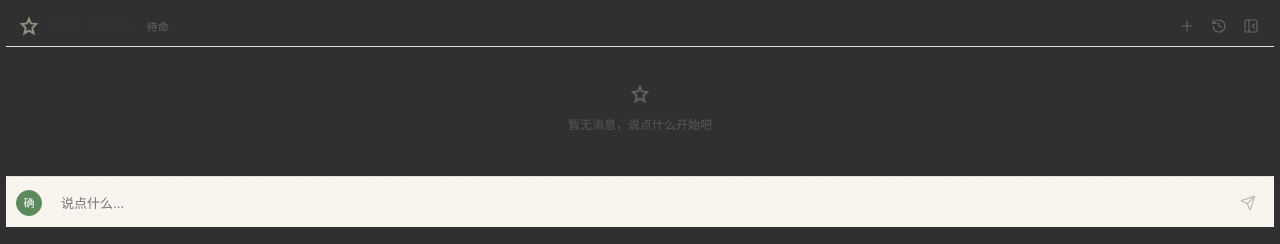
Test: WorkspaceAgentShell › 输入条左侧复用写权限圆点：默认“确”，点按后“放”并让 confirmWrite 自动放行
The image size is (1280, 244).
Click the button with class "agent-write-mode-toggle" at {"x": 29, "y": 203}, box 16,190 -> 42,216
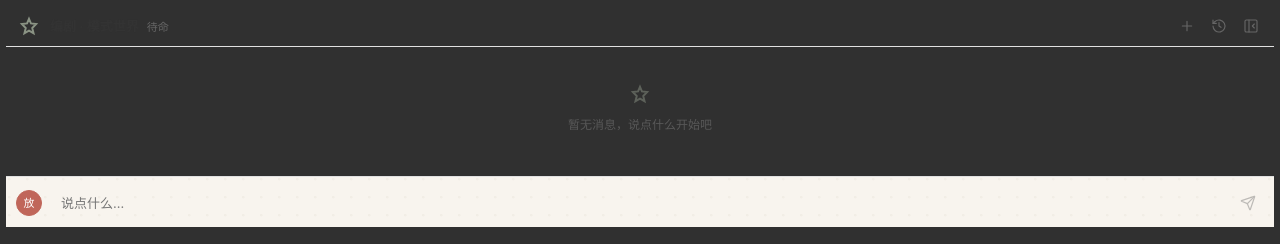
Now the button with class "agent-write-mode-toggle" reads "放", box 16,190 -> 42,216
